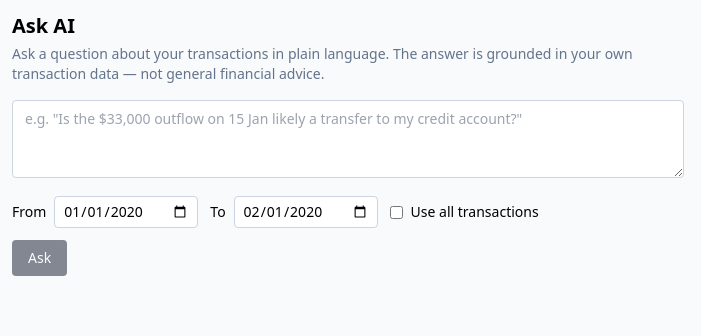
Test: AskAiPage › shows a friendly message when there are no transactions in scope
In the text box with test id "ask-ai-question-input": (348, 139) top-left (12, 100), bottom-right (684, 178), type "Anything here?"
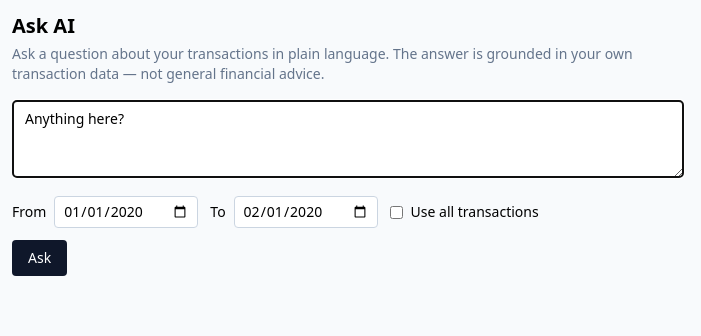
Click the button with test id "ask-ai-submit": (40, 258) top-left (12, 240), bottom-right (67, 276)
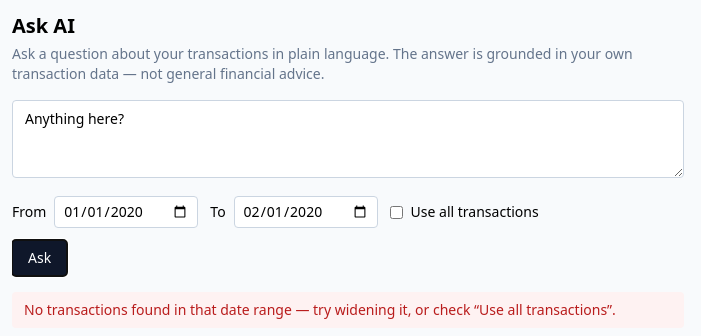
Expected: the text with test id "ask-ai-error" shows "No transactions found in that date range", top-left (24, 300), bottom-right (616, 319)
